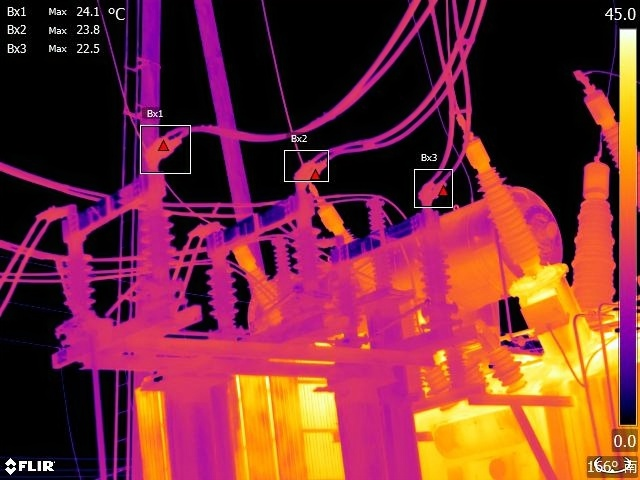oil conservator: (270, 174, 566, 314)
post insulator: (138, 208, 175, 302), (367, 194, 393, 291), (413, 243, 453, 306), (64, 249, 99, 316), (204, 261, 240, 320), (295, 219, 323, 290), (336, 261, 362, 324), (271, 237, 295, 282)
switch: (56, 162, 175, 243), (329, 200, 451, 265), (204, 190, 312, 255)
tube: (460, 126, 547, 285), (574, 145, 618, 313), (575, 64, 618, 157), (471, 318, 524, 383)
